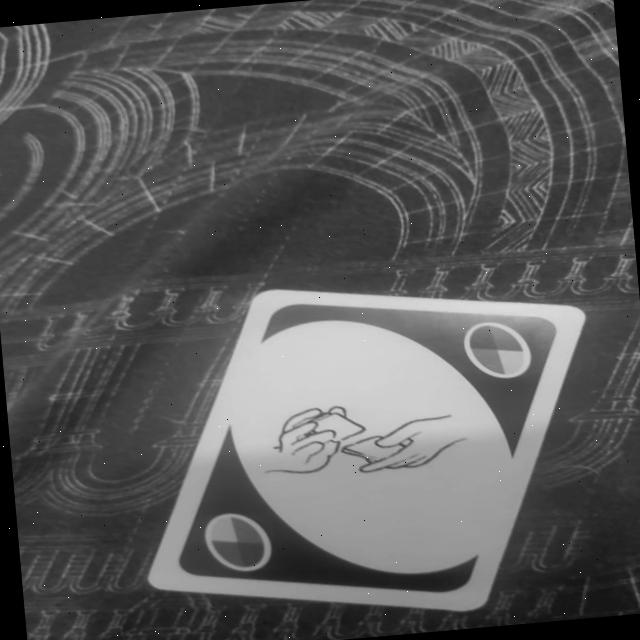wild_card: (121, 260, 612, 639)
